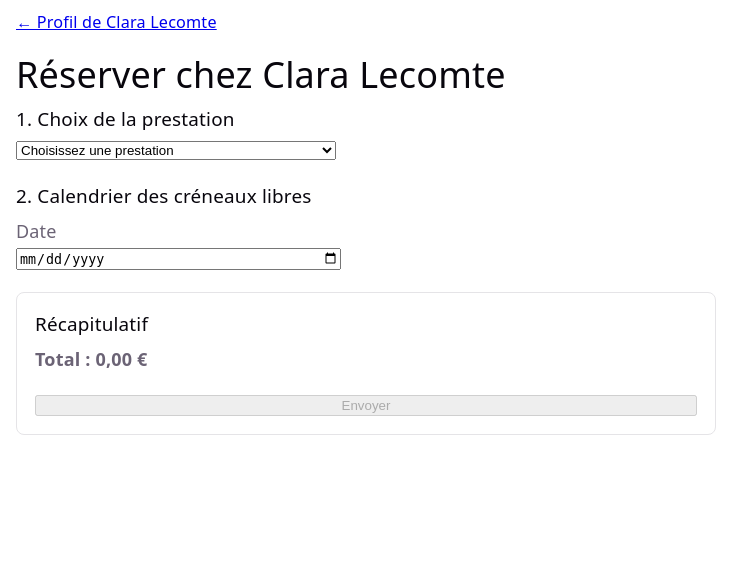
Reservation (#29, scénarios 14 et 22) › calcule le total à partir du prix de base et des options cochées
This screenshot has width=733, height=576.
Select "Reportage mariage — 8 h — 1 200,00 €" in the dropdown at (176,151), box [16,141,336,160]
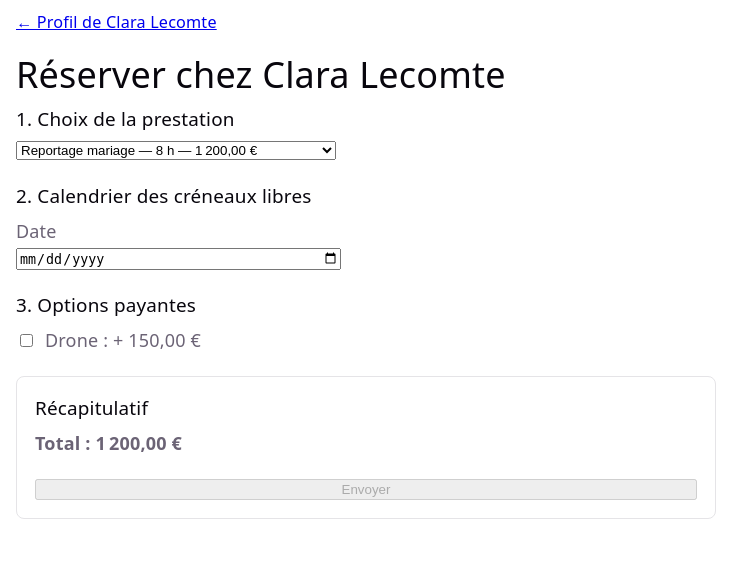
Type "2027-04-02" into the date field labelled "Date" at (178,259), box [16,248,341,270]
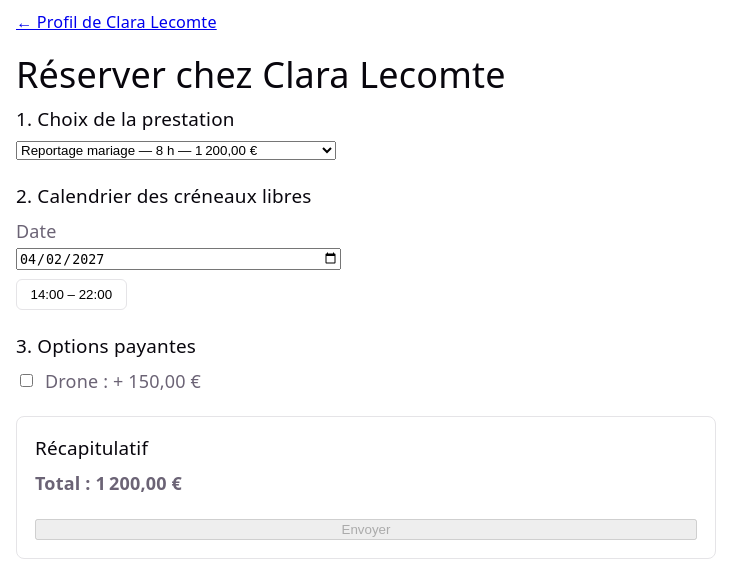
Click the button "14:00 – 22:00" at (71,294), box [16,279,126,310]
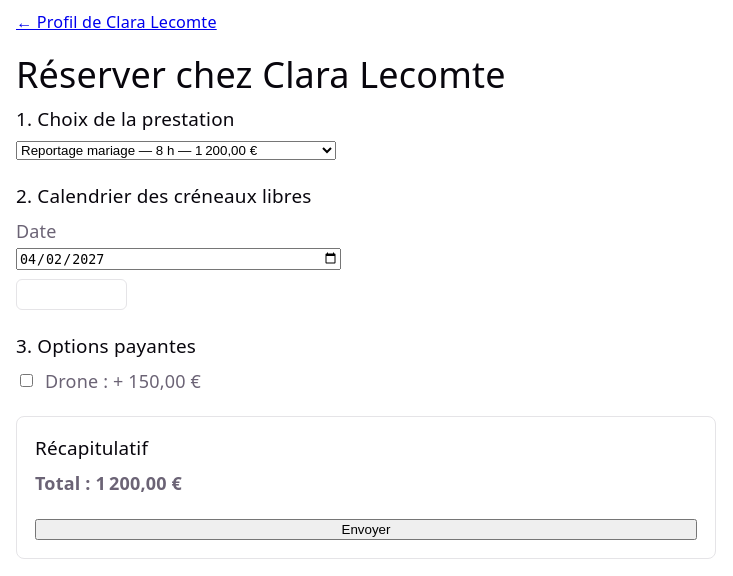
Expected: the text "Total : 1 200,00 €" is shown, [35,472,182,496]
Click the checkbox labelled "Drone : + 150,00 €" at (26,381), box [20,374,33,387]
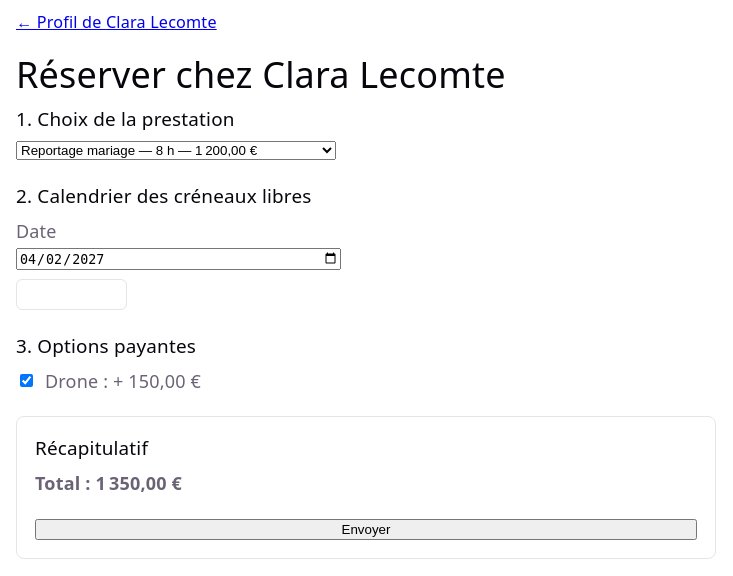
Expected: the text "Total : 1 350,00 €" is shown, [35,472,182,496]
